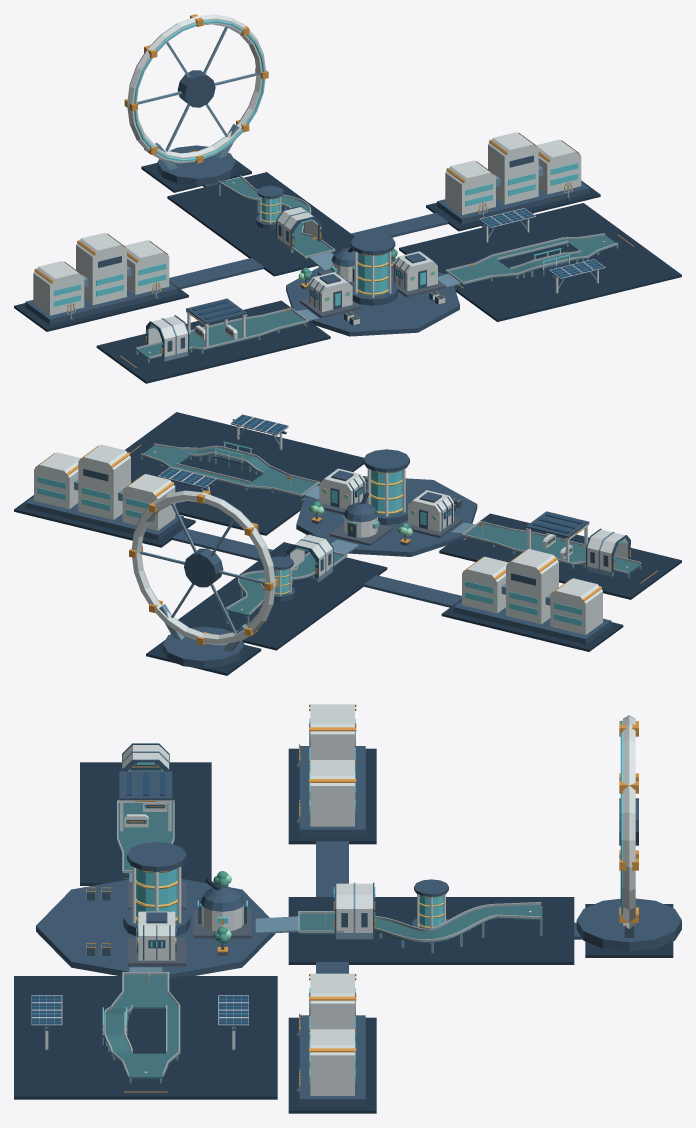
File: district.glb
The picture shows the model from 3 angles, top to bottom: view 1: azimuth 30°, elevation 25°; view 2: azimuth 150°, elevation 25°; view 3: azimuth 270°, elevation 25°; orthographic projection. The views are drawn at different scales.
Visible parts, largest first — view 1: SpaceStation_District_Dressing, DistrictScenery_5__SpaceStation_StationFacade_Standard, DistrictScenery_6__SpaceStation_StationFacade_Standard, DistrictScenery_4__SpaceStation_OrbitalRingBackdrop_Standard, DistrictScenery_0__SpaceStation_ReactorCore_Standard, SolarSplit__SpaceStation_SolarSplit_Surface, AirlockAlley__SpaceStation_AirlockAlley_Surface, DistrictScenery_2__SpaceStation_Habitat_Standard, DistrictScenery_3__SpaceStation_Habitat_Standard, AirlockAlley_0__SpaceStation_AirlockTunnel_Standard, SolarSplit__SpaceStation_SolarSplit_Rails, ReactorRun__SpaceStation_ReactorRun_Surface (+7 smaller); view 2: SpaceStation_District_Dressing, DistrictScenery_5__SpaceStation_StationFacade_Standard, DistrictScenery_4__SpaceStation_OrbitalRingBackdrop_Standard, DistrictScenery_6__SpaceStation_StationFacade_Standard, DistrictScenery_0__SpaceStation_ReactorCore_Standard, SolarSplit__SpaceStation_SolarSplit_Surface, AirlockAlley__SpaceStation_AirlockAlley_Surface, DistrictScenery_2__SpaceStation_Habitat_Standard, DistrictScenery_1__SpaceStation_Observatory_Standard, DistrictScenery_3__SpaceStation_Habitat_Standard, AirlockAlley_0__SpaceStation_AirlockTunnel_Standard, SolarSplit__SpaceStation_SolarSplit_Rails (+8 smaller); view 3: SpaceStation_District_Dressing, DistrictScenery_5__SpaceStation_StationFacade_Standard, DistrictScenery_6__SpaceStation_StationFacade_Standard, DistrictScenery_4__SpaceStation_OrbitalRingBackdrop_Standard, SolarSplit__SpaceStation_SolarSplit_Surface, DistrictScenery_0__SpaceStation_ReactorCore_Standard, ReactorRun__SpaceStation_ReactorRun_Surface, DistrictScenery_3__SpaceStation_Habitat_Standard, DistrictScenery_1__SpaceStation_Observatory_Standard, ReactorRun_1__SpaceStation_AirlockTunnel_Standard, AirlockAlley_3__SpaceStation_CargoCanopy_Standard, AirlockAlley__SpaceStation_AirlockAlley_Surface (+6 smaller).
Boxes of the visible parts, bbox=[...] form: SpaceStation_District_Dressing: bbox=[14, 158, 681, 383]; DistrictScenery_5__SpaceStation_StationFacade_Standard: bbox=[25, 232, 177, 324]; DistrictScenery_6__SpaceStation_StationFacade_Standard: bbox=[437, 132, 589, 224]; DistrictScenery_4__SpaceStation_OrbitalRingBackdrop_Standard: bbox=[124, 14, 268, 185]; DistrictScenery_0__SpaceStation_ReactorCore_Standard: bbox=[350, 233, 397, 305]; SolarSplit__SpaceStation_SolarSplit_Surface: bbox=[447, 235, 617, 284]; AirlockAlley__SpaceStation_AirlockAlley_Surface: bbox=[136, 310, 307, 359]; DistrictScenery_2__SpaceStation_Habitat_Standard: bbox=[300, 272, 360, 318]; DistrictScenery_3__SpaceStation_Habitat_Standard: bbox=[391, 251, 445, 297]; AirlockAlley_0__SpaceStation_AirlockTunnel_Standard: bbox=[145, 315, 189, 357]; SolarSplit__SpaceStation_SolarSplit_Rails: bbox=[445, 233, 618, 284]; ReactorRun__SpaceStation_ReactorRun_Surface: bbox=[219, 177, 333, 258]; SpaceStation_District_Dressing: bbox=[14, 412, 681, 675]; DistrictScenery_5__SpaceStation_StationFacade_Standard: bbox=[453, 549, 611, 644]; DistrictScenery_4__SpaceStation_OrbitalRingBackdrop_Standard: bbox=[129, 490, 278, 668]; DistrictScenery_6__SpaceStation_StationFacade_Standard: bbox=[25, 444, 183, 540]; DistrictScenery_0__SpaceStation_ReactorCore_Standard: bbox=[363, 449, 409, 525]; SolarSplit__SpaceStation_SolarSplit_Surface: bbox=[141, 445, 317, 497]; AirlockAlley__SpaceStation_AirlockAlley_Surface: bbox=[463, 523, 640, 574]; DistrictScenery_2__SpaceStation_Habitat_Standard: bbox=[399, 490, 462, 537]; DistrictScenery_1__SpaceStation_Observatory_Standard: bbox=[329, 492, 392, 545]; DistrictScenery_3__SpaceStation_Habitat_Standard: bbox=[311, 468, 367, 514]; AirlockAlley_0__SpaceStation_AirlockTunnel_Standard: bbox=[586, 528, 630, 572]; SolarSplit__SpaceStation_SolarSplit_Rails: bbox=[140, 443, 319, 496]; SpaceStation_District_Dressing: bbox=[14, 744, 673, 1113]; DistrictScenery_5__SpaceStation_StationFacade_Standard: bbox=[299, 704, 365, 836]; DistrictScenery_6__SpaceStation_StationFacade_Standard: bbox=[299, 973, 365, 1105]; DistrictScenery_4__SpaceStation_OrbitalRingBackdrop_Standard: bbox=[576, 715, 681, 951]; SolarSplit__SpaceStation_SolarSplit_Surface: bbox=[105, 974, 178, 1078]; DistrictScenery_0__SpaceStation_ReactorCore_Standard: bbox=[123, 842, 190, 936]; ReactorRun__SpaceStation_ReactorRun_Surface: bbox=[299, 904, 541, 942]; DistrictScenery_3__SpaceStation_Habitat_Standard: bbox=[127, 910, 185, 966]; DistrictScenery_1__SpaceStation_Observatory_Standard: bbox=[193, 878, 251, 938]; ReactorRun_1__SpaceStation_AirlockTunnel_Standard: bbox=[333, 882, 375, 932]; AirlockAlley_3__SpaceStation_CargoCanopy_Standard: bbox=[119, 771, 172, 831]; AirlockAlley__SpaceStation_AirlockAlley_Surface: bbox=[118, 770, 173, 874].
Size of what is drawn, in the model's own units: 78 by 20.88 by 60.8.
